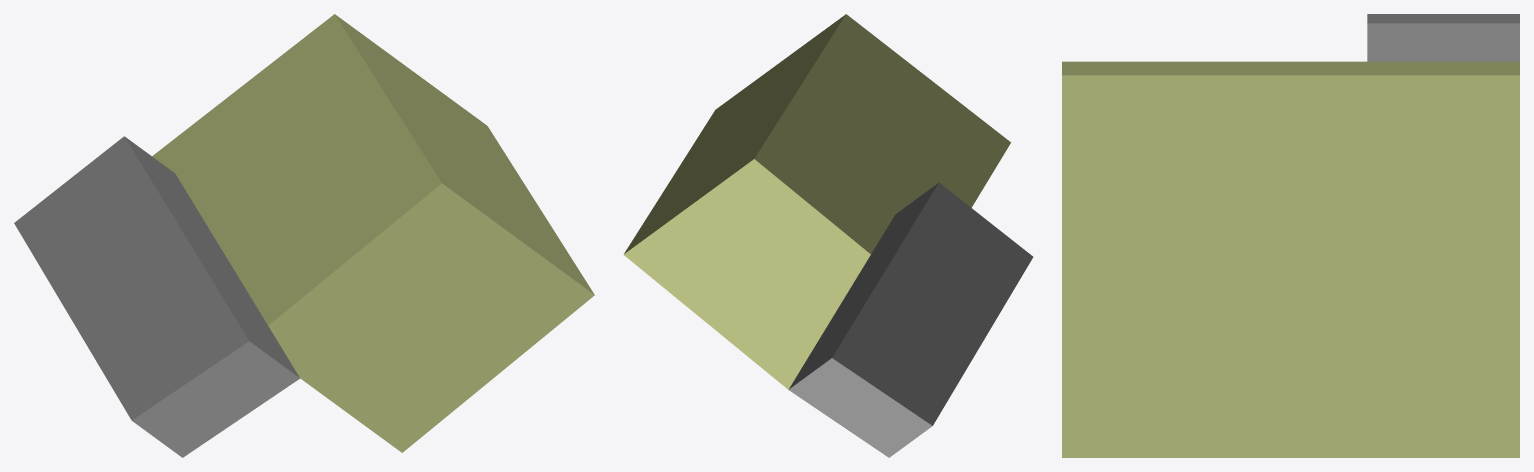
The picture shows the model from 3 angles, left to right: view 1: azimuth 30°, elevation 25°; view 2: azimuth 150°, elevation 25°; view 3: azimuth 270°, elevation 25°; orthographic projection. The views are drawn at different scales.
Parts seen in each view (by area): view 1: 0_3_1_3_0_0_3_0_1_1_0; view 2: 0_3_1_3_0_0_3_0_1_1_0; view 3: 0_3_1_3_0_0_3_0_1_1_0.
Part boxes in pixels (x1,y1,x2,y2): 0_3_1_3_0_0_3_0_1_1_0: (14,14,594,457); 0_3_1_3_0_0_3_0_1_1_0: (623,14,1033,457); 0_3_1_3_0_0_3_0_1_1_0: (1062,14,1519,457).
Bounding box in the file's own units: 14.55 × 11.6 × 9.
